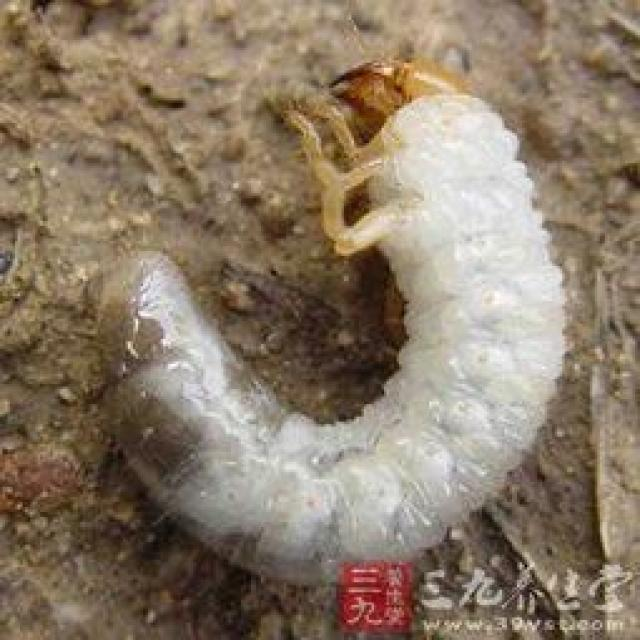Grub-Adult-: (81, 42, 575, 594)
